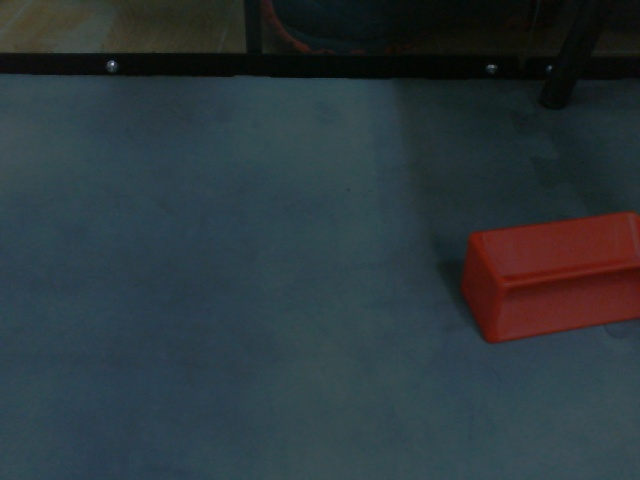RedSample: (458, 209, 640, 345)
